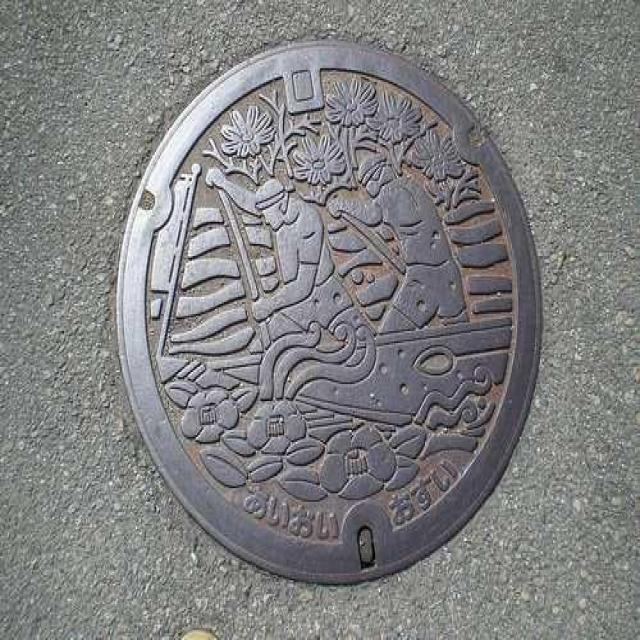manhole: (118, 43, 539, 583)
